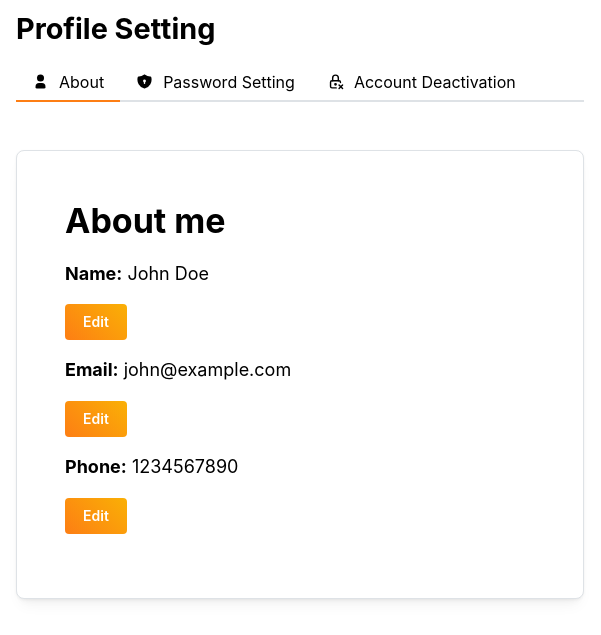
Scenario: ProfileSetting › renders user information and toggles tabs
Expected: the text "Name: John Doe" is shown, [65,263,209,284]
Expected: the text "Email: john@example.com" is shown, [65,359,291,380]
// Click on Password Setting tab
Click the tab "Password Setting" at [216, 83], box [120,63,311,102]
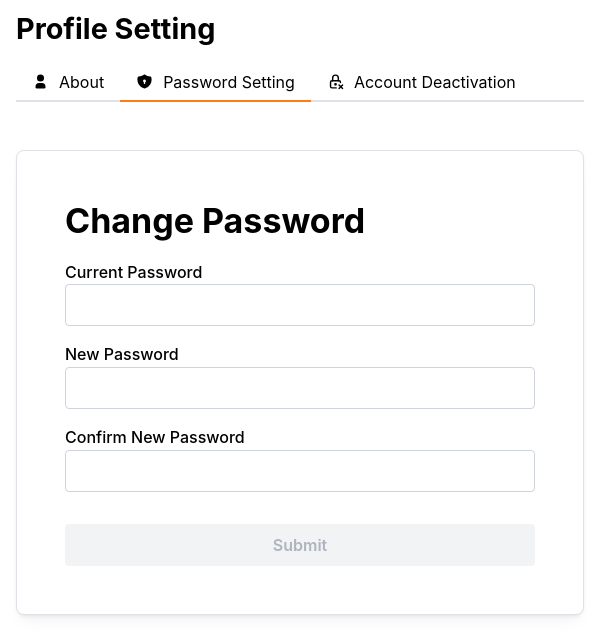
Now the heading "Change Password" is shown, box [65,200,365,241]
Now the button "Submit" is shown, box [273,535,327,555]
